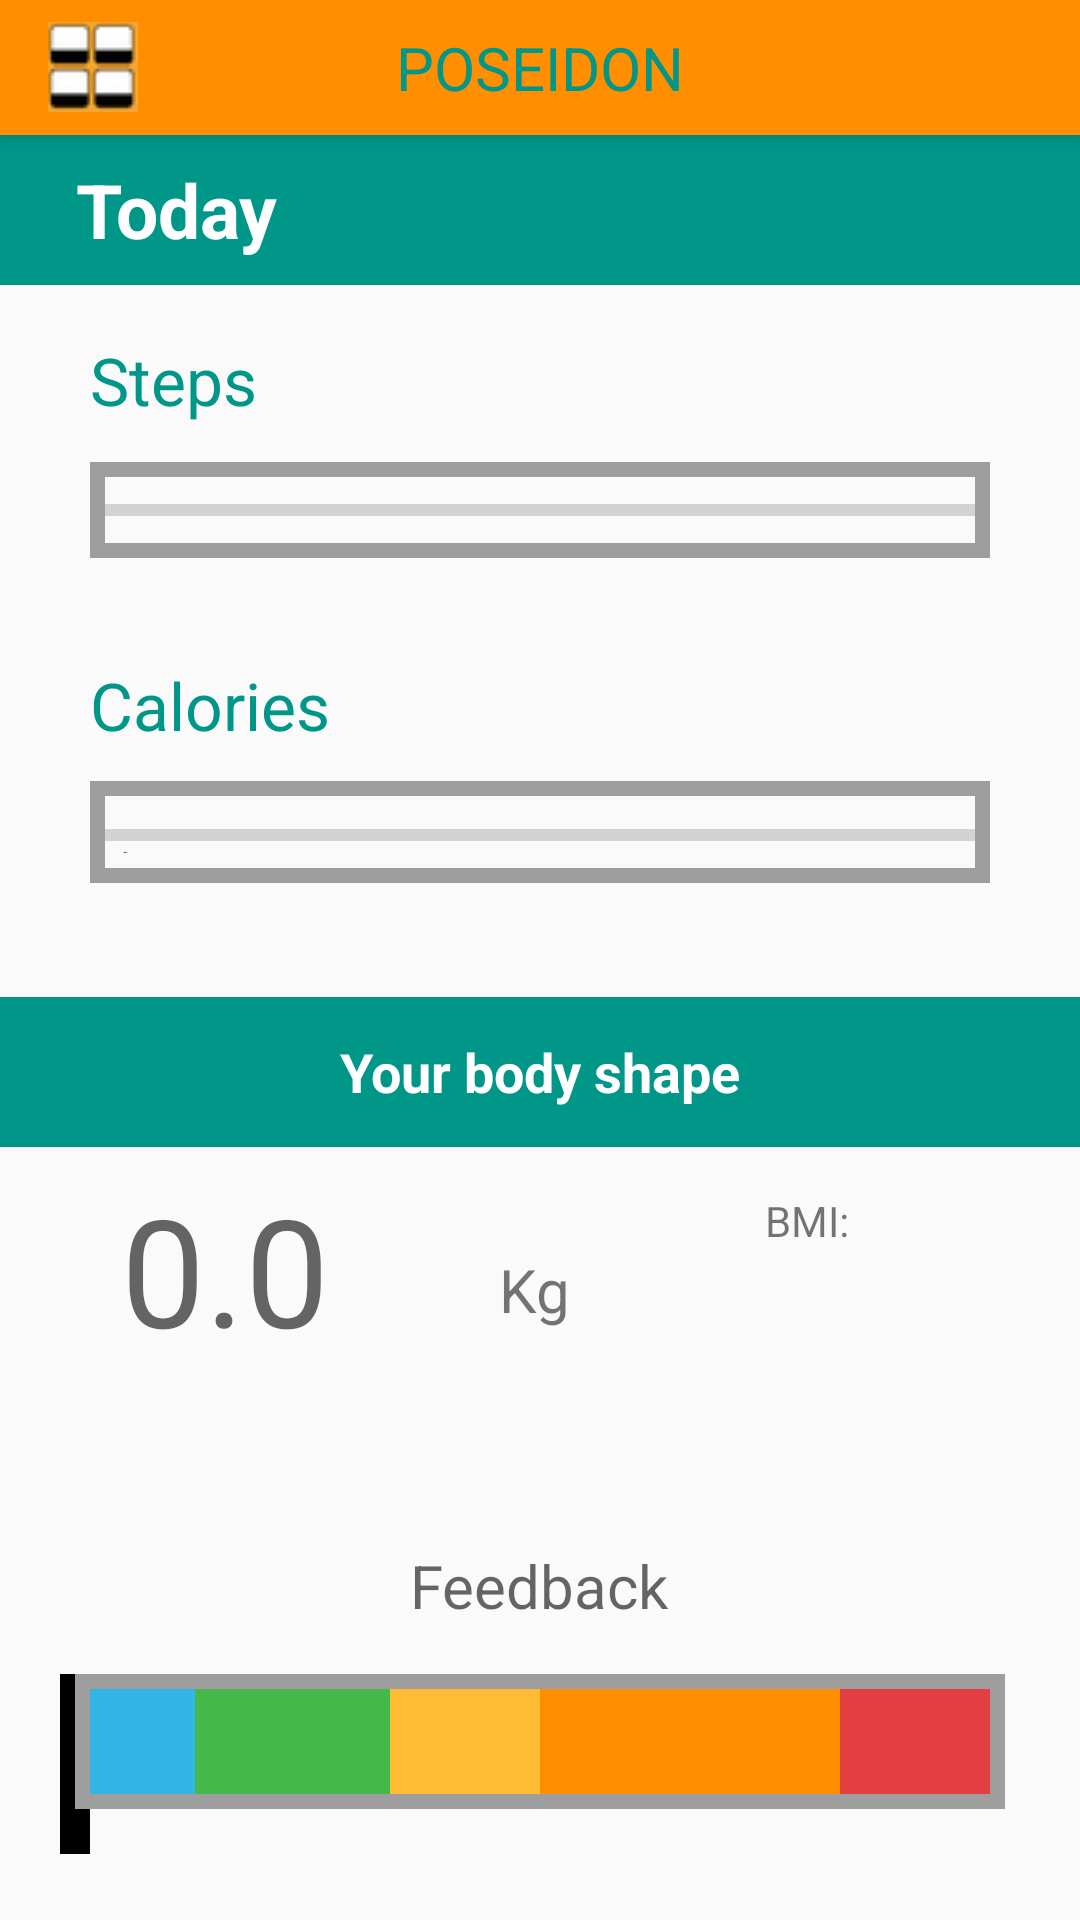

Screen size 1080w x 1920h. Icon name, then its box in pixels as box(x1, y1, x2, y2):
homebutton: box(48, 22, 138, 112)
